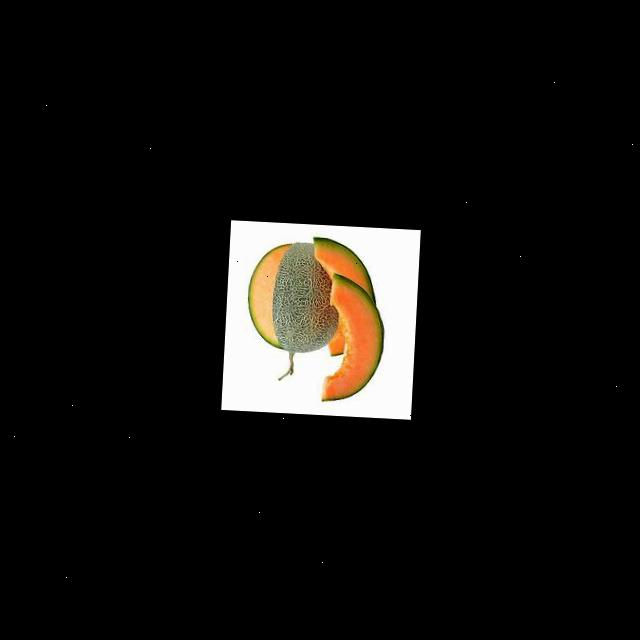Hami Melon: (244, 240, 338, 354), (304, 235, 376, 358), (318, 275, 386, 405)
